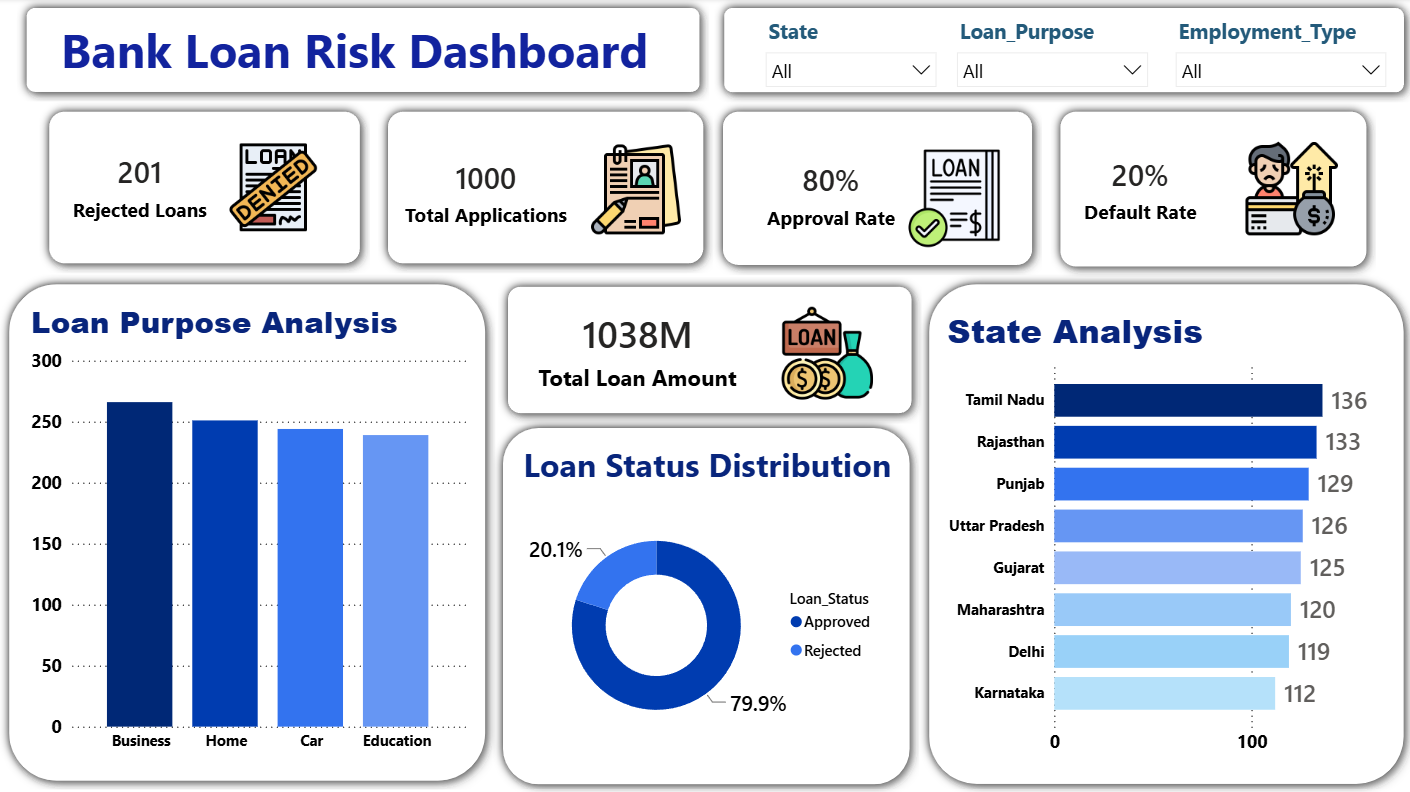

Layout of this report page (visuals, bound fields, positions):
{"tool":"powerbi","page":{"name":"Executive Summary","canvas":[1280,720],"ordinal":0},"visuals":[{"type":"group","id":"g1","title":"Group 1","box":[17.1,0,625.7,94.3],"z":0},{"type":"shape","box":[17.1,0,626.6,94],"z":0,"group":"g1"},{"type":"shape","box":[647.1,0,632.9,94.3],"z":0,"group":"g11"},{"type":"group","id":"g2","title":"Group 1","box":[37,94,299.1,155.2],"z":0,"group":"g3"},{"type":"shape","box":[37,94,299.1,155.2],"z":0,"group":"g2"},{"type":"shape","box":[343.2,94,303.3,155.2],"z":0,"group":"g4"},{"type":"shape","box":[646.5,94,297.6,156.7],"z":0,"group":"g5"},{"type":"shape","box":[951.3,94,294.8,158.1],"z":0,"group":"g6"},{"type":"shape","box":[0.8,250,448.6,467.1],"z":0,"group":"g8"},{"type":"shape","box":[832.5,250,447.1,470],"z":0,"group":"g9"},{"type":"shape","box":[451.4,252.1,383.1,132.4],"z":0,"group":"g7"},{"type":"shape","box":[447.2,380.2,385.9,340.4],"z":0,"group":"g10"},{"type":"group","id":"g3","title":"Group 2","box":[0.8,0,1279.2,720.6],"z":1000},{"type":"group","id":"g4","title":"Group 1","box":[343.2,94,303.3,155.2],"z":1000,"group":"g3"},{"type":"card","fields":{"Values":["Loan_data.Rejected Loans"]},"box":[60.7,110.4,134.7,117.4],"z":1000,"group":"g2"},{"type":"card","fields":{"Values":["Loan_data.Approval Rate"]},"box":[689.9,115,128,122.5],"z":1000,"group":"g5"},{"type":"card","fields":{"Values":["Loan_data.Total Applications"]},"box":[360.9,115.4,159.5,118.2],"z":1000,"group":"g4"},{"type":"card","fields":{"Values":["Loan_data.Default Rate"]},"box":[972.5,115.6,119.9,113.4],"z":1000,"group":"g6"},{"type":"card","fields":{"Values":["Loan_data.Total Loan Amount"]},"box":[463.4,268.8,227.9,97.1],"z":1000,"group":"g7"},{"type":"clusteredColumnChart","title":"Loan Purpose Analysis","fields":{"Category":["Loan_data.Loan_Purpose"],"Y":["Loan_data.Count of cust_id"]},"box":[25,273.6,403,417.7],"z":1000,"group":"g8"},{"type":"slicer","fields":{"Values":["Loan_data.State"]},"box":[684.5,12.9,174.7,68.7],"z":2000},{"type":"group","id":"g5","title":"Group 1","box":[646.5,94,297.6,156.7],"z":2000,"group":"g3"},{"type":"image","box":[191.5,129.2,113.4,84.8],"z":2000,"group":"g2"},{"type":"image","box":[1117.5,129.6,104,86.9],"z":2000,"group":"g6"},{"type":"image","box":[516.2,131,121.1,84],"z":2000,"group":"g4"},{"type":"image","box":[813.8,137.3,101.8,89.1],"z":2000,"group":"g5"},{"type":"image","box":[681.3,279.4,136.7,84],"z":2000,"group":"g7"},{"type":"slicer","fields":{"Values":["Loan_data.Employment_Type"]},"box":[1055,12.9,210.7,68.6],"z":3000},{"type":"group","id":"g6","title":"Group 1","box":[951.3,94,294.8,158.1],"z":3000,"group":"g3"},{"type":"slicer","fields":{"Values":["Loan_data.State"]},"box":[1547.9,25.7,175,68.6],"z":4000},{"type":"group","id":"g7","title":"Group 1","box":[451.4,252.1,383.1,132.4],"z":4000,"group":"g3"},{"type":"slicer","fields":{"Values":["Loan_data.State"]},"box":[1500.7,25.7,175,68.6],"z":5000},{"type":"group","id":"g8","title":"Group 1","box":[0.8,250,448.6,467.1],"z":5000,"group":"g3"},{"type":"slicer","fields":{"Values":["Loan_data.Loan_Purpose"]},"box":[857.1,12.9,192.9,68.6],"z":6000},{"type":"group","id":"g9","title":"Group 1","box":[832.5,250,447.1,470],"z":6000,"group":"g3"},{"type":"group","id":"g10","title":"Group 1","box":[447.2,380.2,385.9,340.4],"z":7000,"group":"g3"},{"type":"donutChart","title":"Loan Status Distribution","fields":{"Category":["Loan_data.Loan_Status"],"Y":["Loan_data.Count of cust_id"]},"box":[469.9,401.6,344.6,293.4],"z":8000,"group":"g3"},{"type":"clusteredBarChart","title":"State Analysis","fields":{"Category":["Loan_data.State"],"Y":["Loan_data.Total Applications"]},"box":[853,280.6,404.5,414.4],"z":9000,"group":"g3"},{"type":"textbox","box":[52,12.8,573.9,68.4],"z":9003,"group":"g1"},{"type":"group","id":"g11","title":"Group 1","box":[647.1,0,632.9,94.3],"z":10000,"group":"g3"}]}

Visuals, with their boxes in screenshot pixels (x1, y1, x2, y2), scaled from the page's 1280x720 canvas onto the 1410x792 screenshot:
"Group 1" group: Rect(19, 0, 708, 104)
shape: Rect(19, 0, 709, 103)
shape: Rect(713, 0, 1409, 104)
"Group 1" group: Rect(41, 103, 370, 274)
shape: Rect(41, 103, 370, 274)
shape: Rect(378, 103, 712, 274)
shape: Rect(712, 103, 1040, 276)
shape: Rect(1048, 103, 1373, 277)
shape: Rect(1, 275, 495, 789)
shape: Rect(917, 275, 1409, 791)
shape: Rect(497, 277, 919, 423)
shape: Rect(493, 418, 918, 791)
"Group 2" group: Rect(1, 0, 1409, 791)
"Group 1" group: Rect(378, 103, 712, 274)
card - Loan_data.Rejected Loans: Rect(67, 121, 215, 251)
card - Loan_data.Approval Rate: Rect(760, 127, 901, 261)
card - Loan_data.Total Applications: Rect(398, 127, 573, 257)
card - Loan_data.Default Rate: Rect(1071, 127, 1203, 252)
card - Loan_data.Total Loan Amount: Rect(510, 296, 762, 402)
"Loan Purpose Analysis" clusteredColumnChart: Rect(28, 301, 471, 760)
slicer - Loan_data.State: Rect(754, 14, 946, 90)
"Group 1" group: Rect(712, 103, 1040, 276)
image: Rect(211, 142, 336, 235)
image: Rect(1231, 143, 1346, 238)
image: Rect(569, 144, 702, 237)
image: Rect(896, 151, 1009, 249)
image: Rect(750, 307, 901, 400)
slicer - Loan_data.Employment_Type: Rect(1162, 14, 1394, 90)
"Group 1" group: Rect(1048, 103, 1373, 277)
"Group 1" group: Rect(497, 277, 919, 423)
"Group 1" group: Rect(1, 275, 495, 789)
slicer - Loan_data.Loan_Purpose: Rect(944, 14, 1157, 90)
"Group 1" group: Rect(917, 275, 1409, 791)
"Group 1" group: Rect(493, 418, 918, 791)
"Loan Status Distribution" donutChart: Rect(518, 442, 897, 765)
"State Analysis" clusteredBarChart: Rect(940, 309, 1385, 765)
textbox: Rect(57, 14, 689, 89)
"Group 1" group: Rect(713, 0, 1409, 104)
